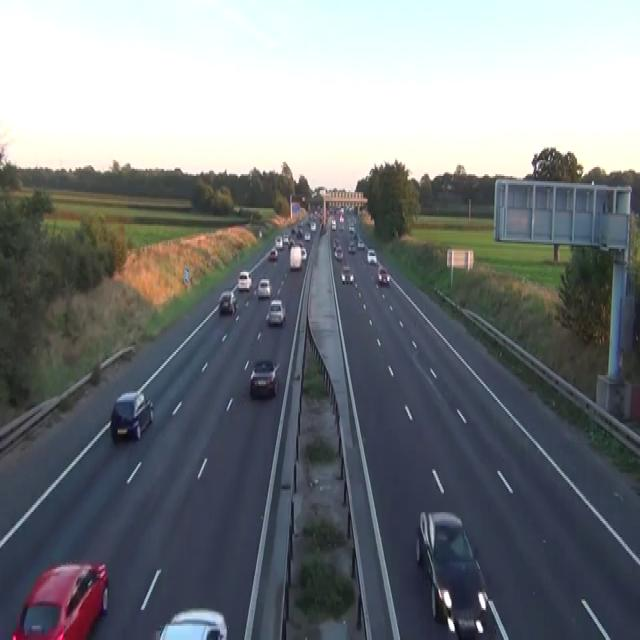Car: (415, 510, 488, 638), (11, 560, 108, 638), (110, 391, 153, 441), (158, 608, 228, 638), (249, 359, 279, 398), (265, 299, 285, 325), (218, 290, 237, 314), (237, 270, 252, 290), (257, 277, 270, 299), (340, 265, 354, 284), (377, 265, 390, 284), (295, 242, 307, 260), (366, 249, 377, 263), (268, 247, 278, 260), (334, 246, 343, 260), (274, 235, 283, 249), (347, 240, 355, 252), (319, 222, 326, 235), (332, 236, 339, 249), (300, 246, 306, 260), (357, 238, 364, 249), (309, 221, 316, 231), (296, 226, 303, 236), (288, 238, 294, 249), (304, 231, 311, 240), (233, 204, 240, 213), (283, 233, 289, 243), (348, 224, 354, 233), (331, 219, 336, 229), (339, 220, 344, 230), (339, 215, 344, 224), (258, 228, 262, 238), (291, 226, 296, 234), (307, 217, 311, 226), (301, 195, 305, 202)
Truck: (289, 246, 301, 270)
